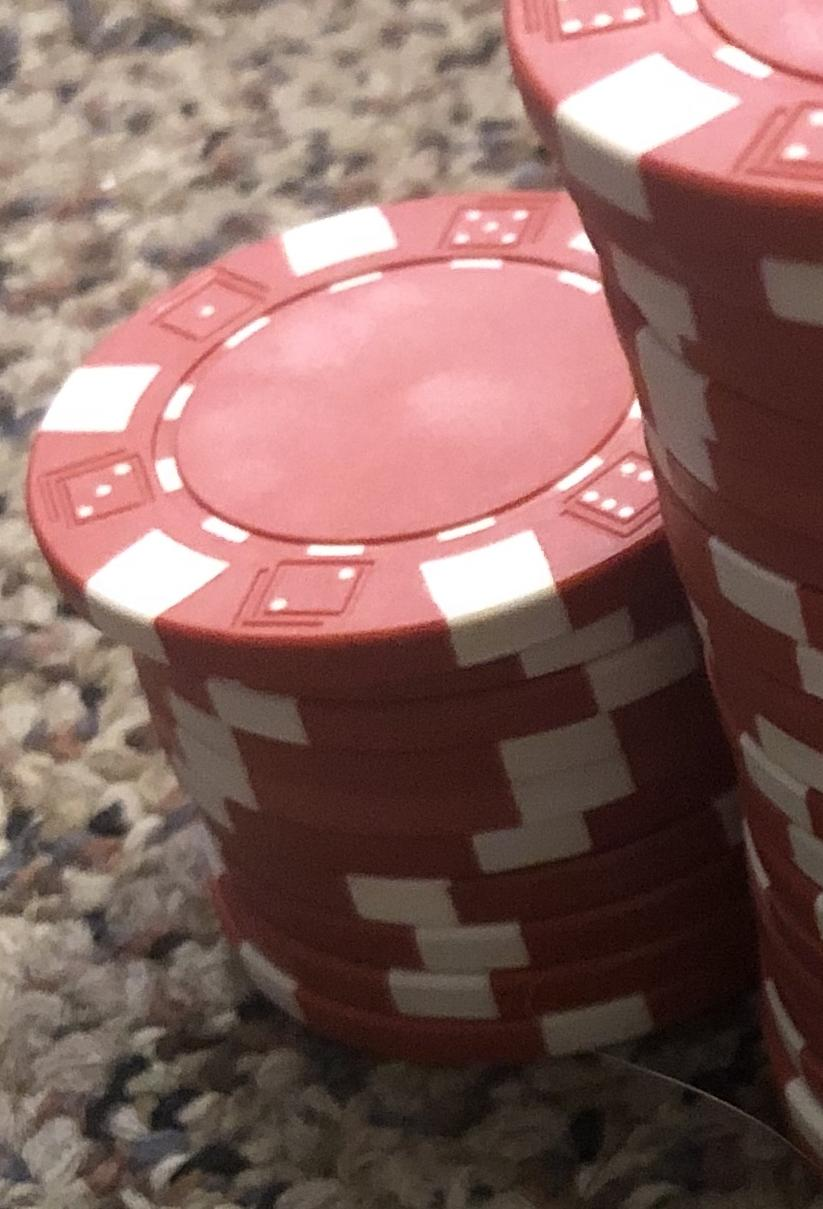Chip: (1, 1, 823, 1209)
